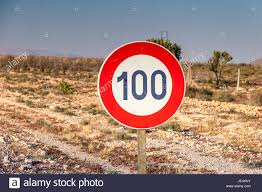Speed_limit_100km: (97, 41, 186, 130)
